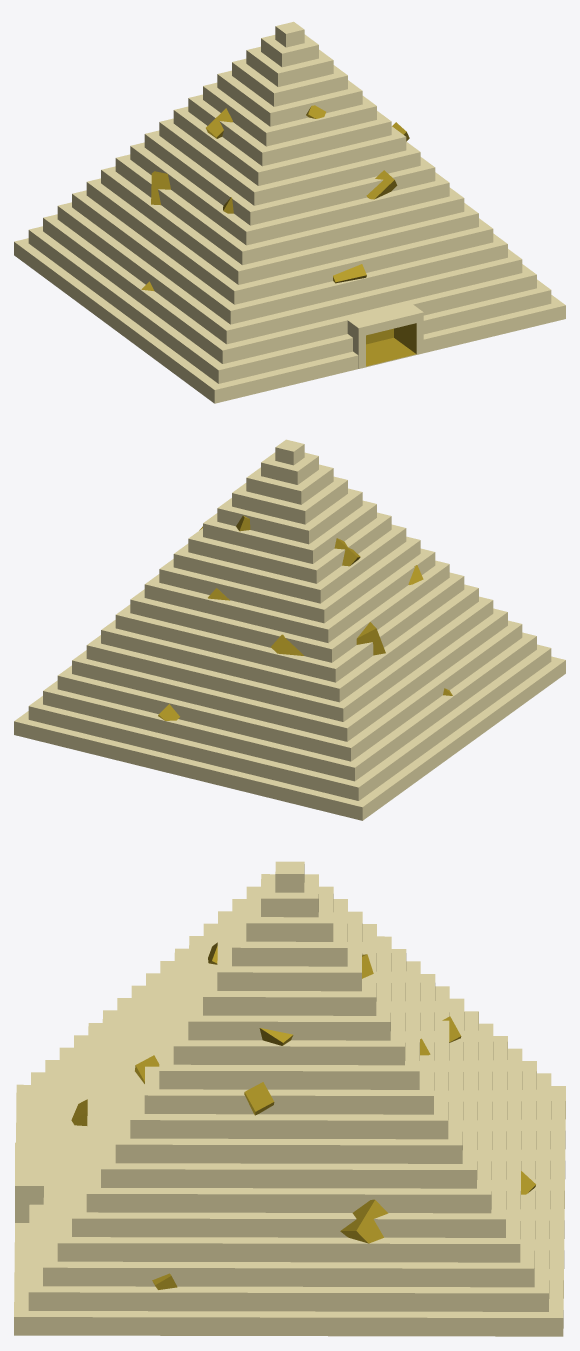
The model's file is PyramidDion.fbx.
3 views of the same model, one above another, from view 1: azimuth 30°, elevation 25°; view 2: azimuth 150°, elevation 25°; view 3: azimuth 270°, elevation 25° (orthographic). The views are drawn at different scales.
Parts seen in each view (by area): view 1: Cube, Cube.011; view 2: Cube, Cube.011; view 3: Cube, Cube.011.
Part boxes in pixels (x1=…): Cube: x1=14, y1=21, x2=565, y2=403; Cube.011: x1=141, y1=105, x2=409, y2=291; Cube: x1=14, y1=439, x2=565, y2=820; Cube.011: x1=158, y1=515, x2=452, y2=720; Cube: x1=14, y1=861, x2=565, y2=1336; Cube.011: x1=71, y1=942, x2=535, y2=1289.
Size of the model in its own units: 540 by 400 by 540.
Materials: 1 (1 with a texture image).
